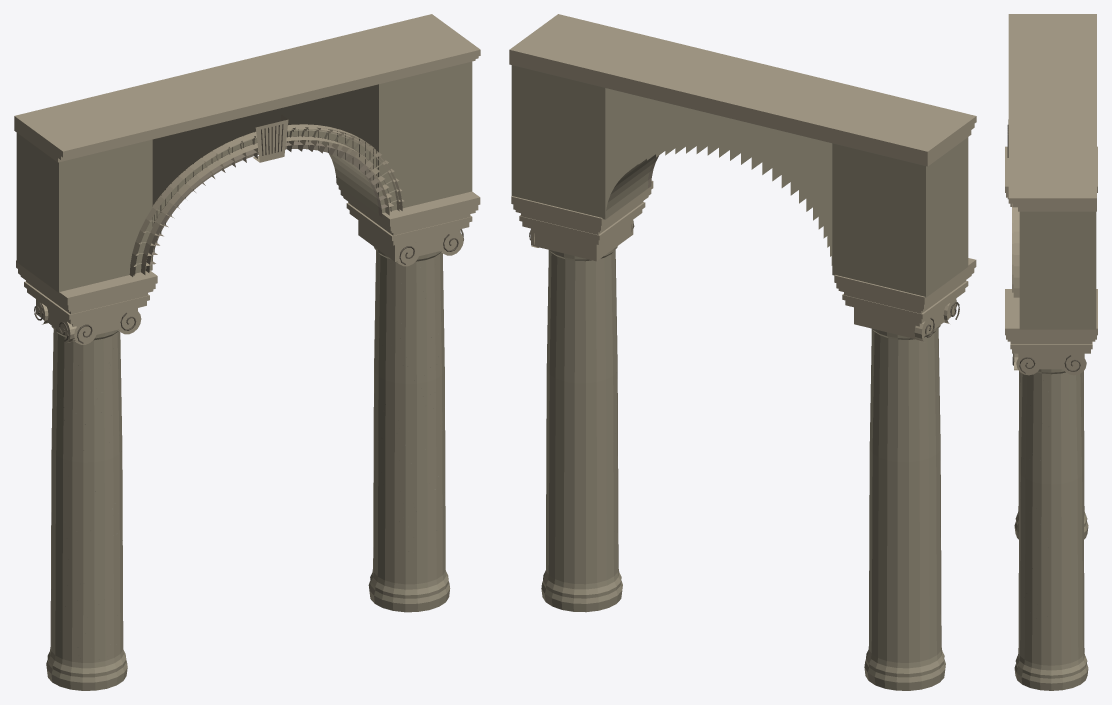
Rendered from hongkou-xiangde-66-no1-volute-portico-lod.glb.
3 renders of one model, left to right at view 1: azimuth 30°, elevation 25°; view 2: azimuth 150°, elevation 25°; view 3: azimuth 270°, elevation 25°, orthographic. The views are drawn at different scales.
Parts seen in each view (by area): view 1: 祥德路66弄1号卷头水刷石门廊与拱心石; view 2: 祥德路66弄1号卷头水刷石门廊与拱心石; view 3: 祥德路66弄1号卷头水刷石门廊与拱心石.
Part boxes in pixels (x1,y1,x2,y2): 祥德路66弄1号卷头水刷石门廊与拱心石: (14,14,480,690); 祥德路66弄1号卷头水刷石门廊与拱心石: (509,14,976,690); 祥德路66弄1号卷头水刷石门廊与拱心石: (1005,14,1097,690).
Bounding box in the file's own units: 2.72 × 3.43 × 0.58.
